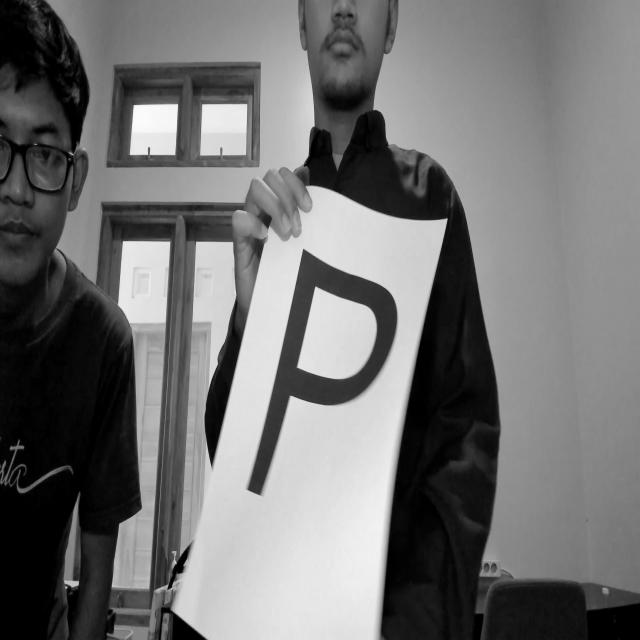p: (247, 243, 403, 530)
